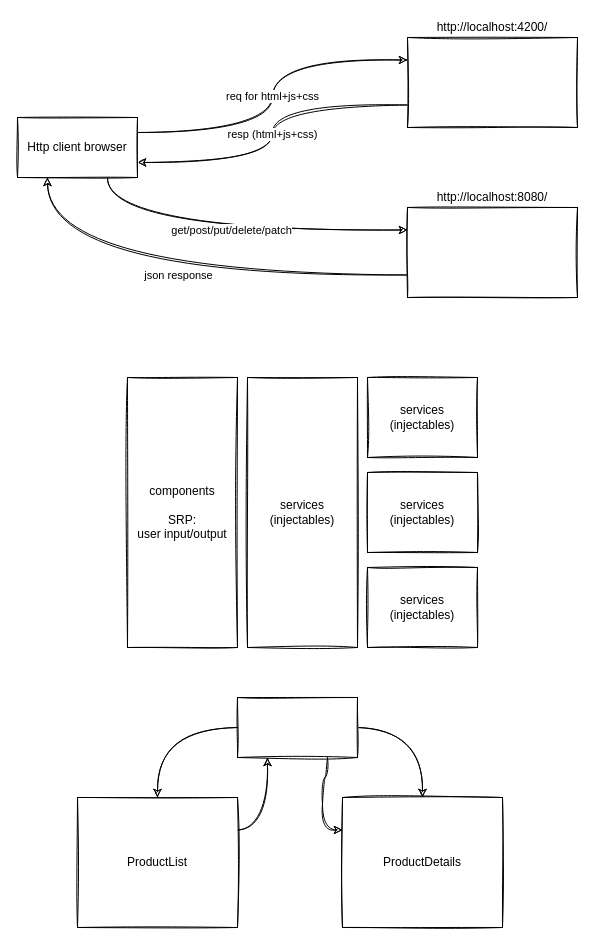
This 595x945 diagram has some shape labels left out. The shapes that lost their labels are listed below. From the top down, each one's box as (x1, y1, x2, y2) in pixels, then its label:
(406, 36, 578, 128): http static web server hosting angular prod files html+js+css
(406, 206, 578, 298): http rest server exposing endpoints /products /brands /categories
(236, 696, 358, 758): ProductStore
